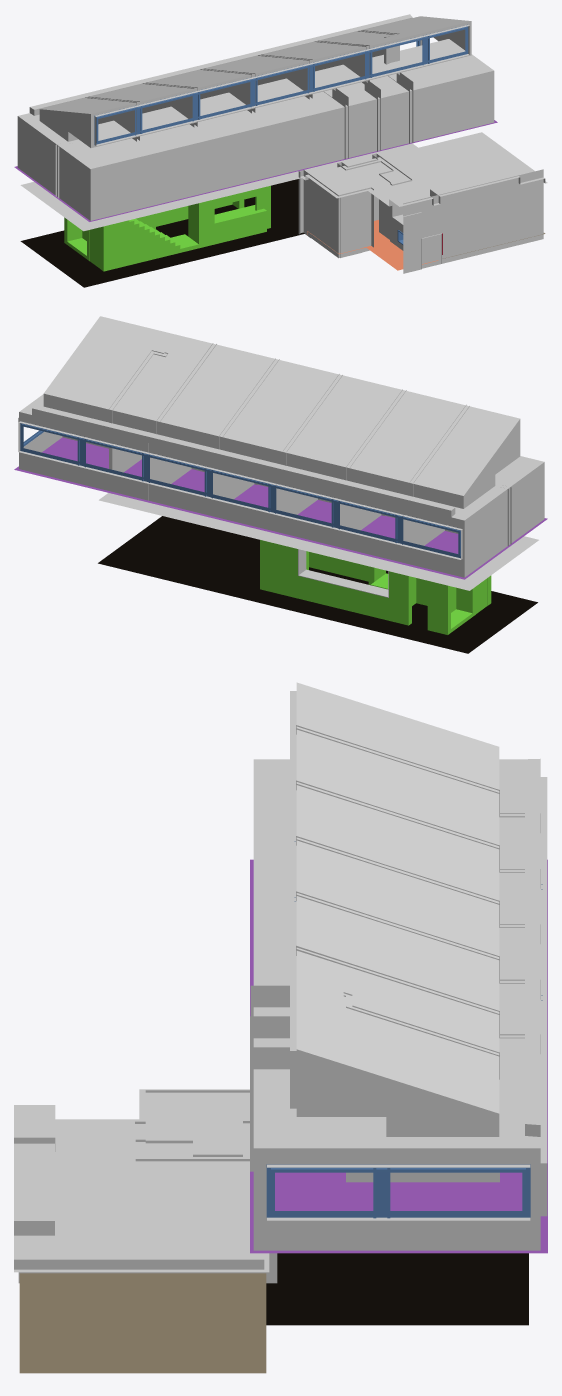
File: wallsInSide.FBX
3 views of the same model, one above another, from view 1: azimuth 30°, elevation 25°; view 2: azimuth 150°, elevation 25°; view 3: azimuth 270°, elevation 25° (orthographic). The views are drawn at different scales.
Parts seen in each view (by area): view 1: wallsInSide; view 2: wallsInSide; view 3: wallsInSide.
Boxes of the visible parts, left/top/right/bottom form: wallsInSide: left=14, top=14, right=547, bottom=287; wallsInSide: left=14, top=316, right=547, bottom=653; wallsInSide: left=14, top=682, right=547, bottom=1373.
Size of the model in its own units: 2041 by 804 by 1169.
